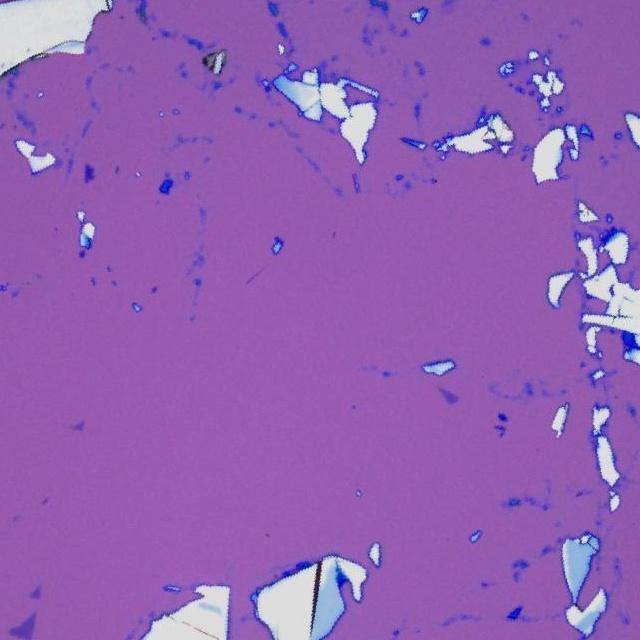monolayer-eWW4: (0, 609, 38, 640), (434, 385, 460, 405), (26, 584, 42, 600), (68, 420, 86, 432)
